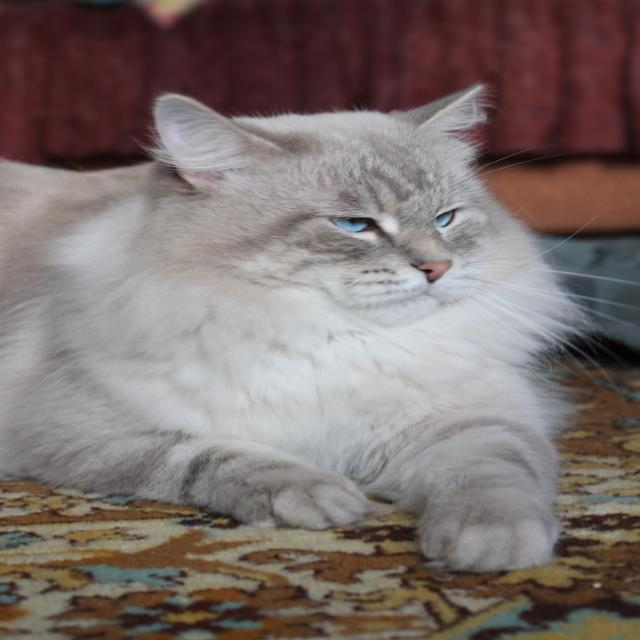Neva Masquerade: (0, 79, 591, 577)
